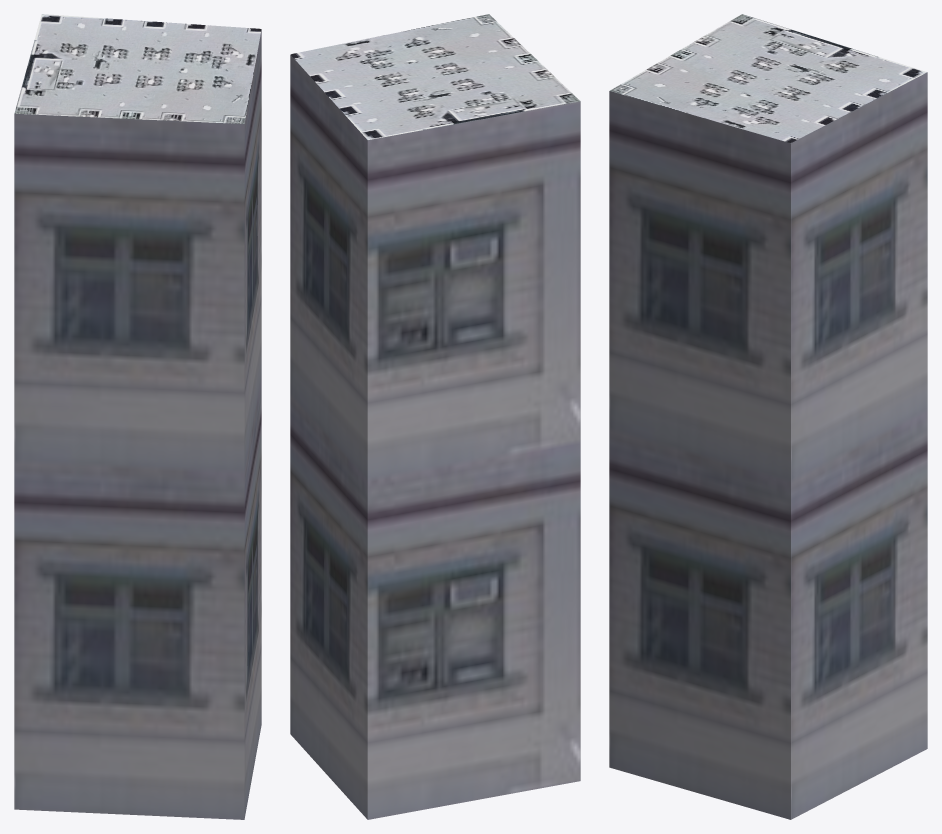
Rendered from ResTex__3710.fbx.
3 views of the same model, side by side, from view 1: azimuth 30°, elevation 25°; view 2: azimuth 150°, elevation 25°; view 3: azimuth 270°, elevation 25° (orthographic). The views are drawn at different scales.
Parts seen in each view (by area): view 1: CityEngineMaterial_1_m, CityEngineMaterial_2_m; view 2: CityEngineMaterial_1_m, CityEngineMaterial_2_m; view 3: CityEngineMaterial_1_m, CityEngineMaterial_2_m.
Boxes of the visible parts, x1,y1,x2,y2 form: CityEngineMaterial_1_m: [14, 30, 261, 819]; CityEngineMaterial_2_m: [14, 14, 261, 123]; CityEngineMaterial_1_m: [290, 55, 580, 819]; CityEngineMaterial_2_m: [290, 14, 580, 139]; CityEngineMaterial_1_m: [609, 72, 927, 819]; CityEngineMaterial_2_m: [610, 14, 926, 142].
Bounding box in the file's own units: 2.46 × 6 × 2.56.
2 materials, 2 textured.
